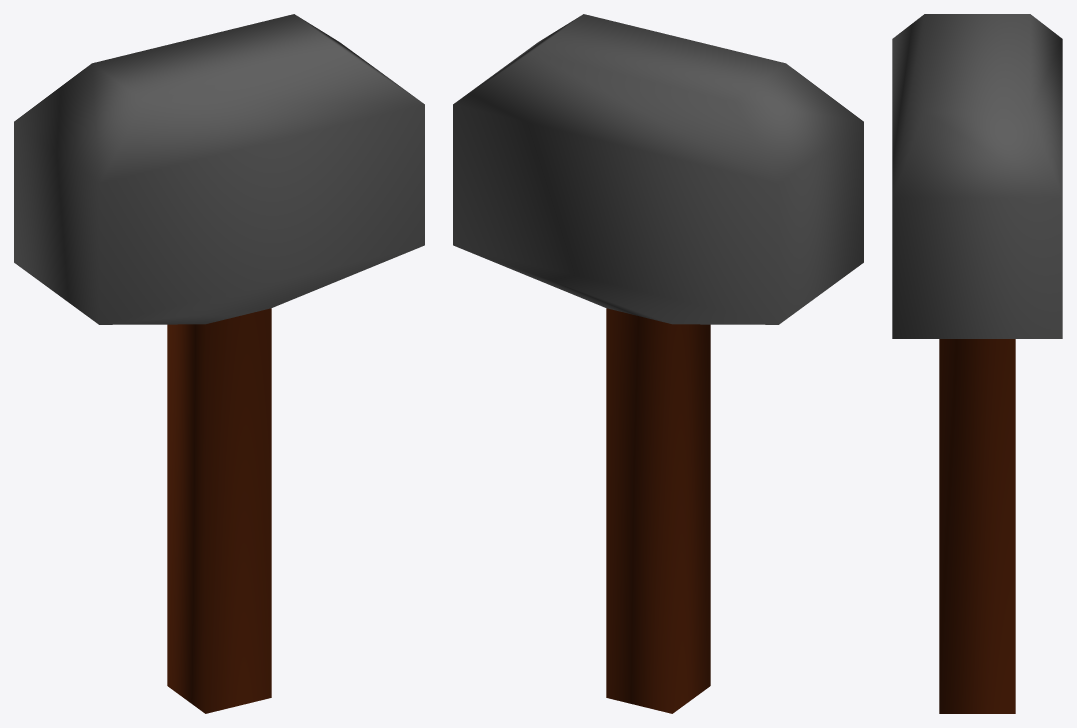
The model's file is hammer.glb.
The picture shows the model from 3 angles, left to right: view 1: azimuth 30°, elevation 25°; view 2: azimuth 150°, elevation 25°; view 3: azimuth 270°, elevation 25°; orthographic projection.
Parts seen in each view (by area): view 1: Cube; view 2: Cube; view 3: Cube.
Part boxes in pixels (x1=…): Cube: x1=14, y1=14, x2=424, y2=713; Cube: x1=453, y1=14, x2=863, y2=713; Cube: x1=892, y1=14, x2=1062, y2=713.
Size of the model in its own units: 0.9859 by 1.83 by 0.446.
